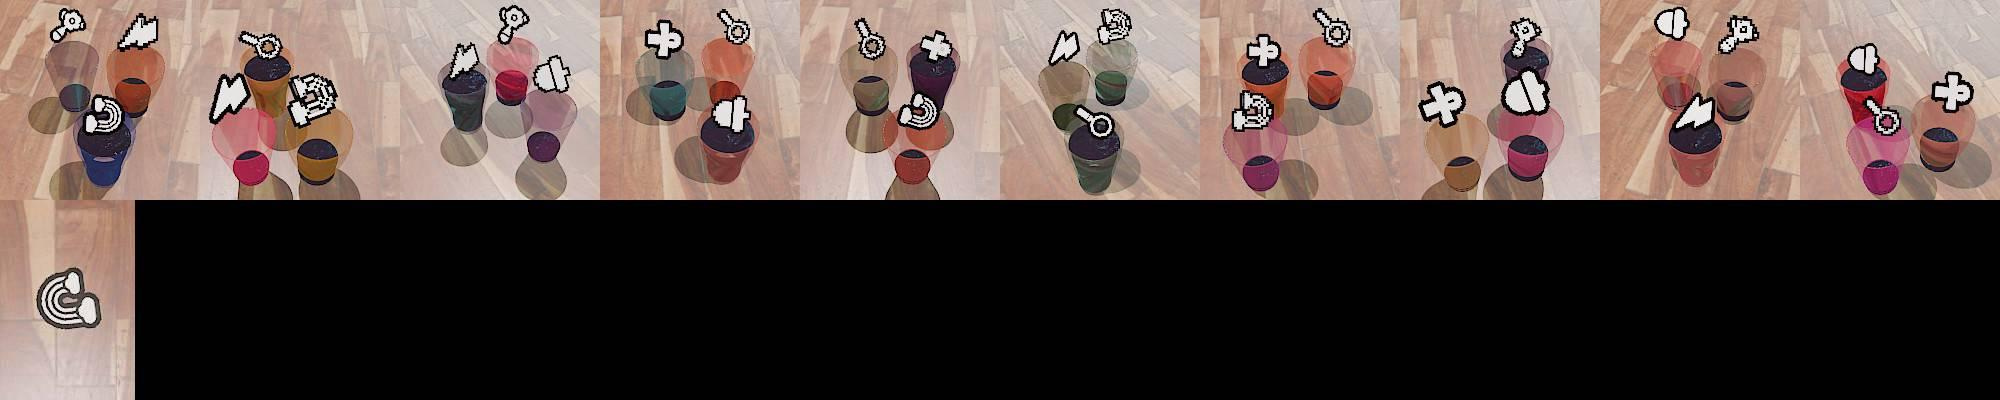icon: (36, 266, 103, 330), (284, 71, 339, 124), (1501, 68, 1551, 116), (208, 70, 253, 124), (1418, 79, 1467, 126), (1230, 88, 1274, 132), (1930, 70, 1976, 112), (82, 92, 125, 135), (1716, 14, 1760, 55), (898, 90, 940, 131), (1672, 90, 1716, 130), (709, 92, 750, 132), (644, 18, 684, 60), (532, 52, 571, 94), (116, 13, 159, 51), (1314, 6, 1351, 50), (1864, 96, 1902, 136), (445, 41, 483, 82), (1071, 103, 1115, 139), (852, 17, 886, 61), (1245, 32, 1283, 70), (50, 8, 88, 46), (1097, 6, 1134, 46), (239, 31, 283, 62), (496, 4, 531, 45), (1509, 17, 1542, 59), (717, 8, 750, 47), (1047, 28, 1080, 66), (1654, 5, 1689, 41), (918, 29, 955, 62), (1847, 42, 1880, 75)
